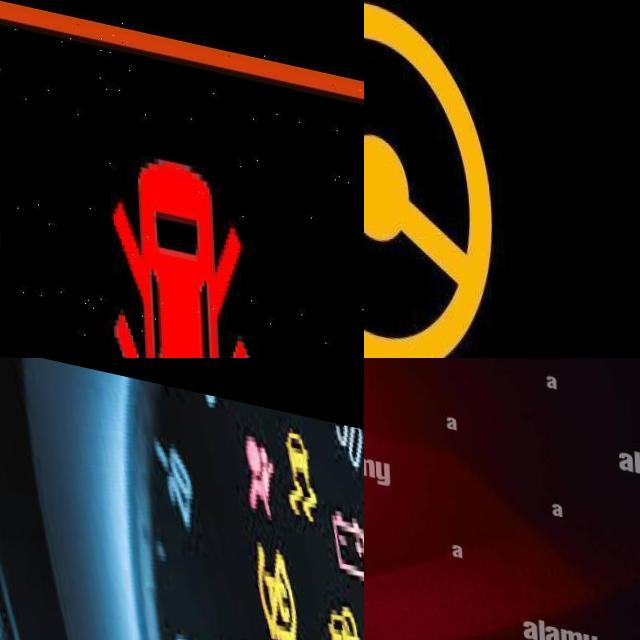Electronic Power Steering: (364, 0, 494, 358)
